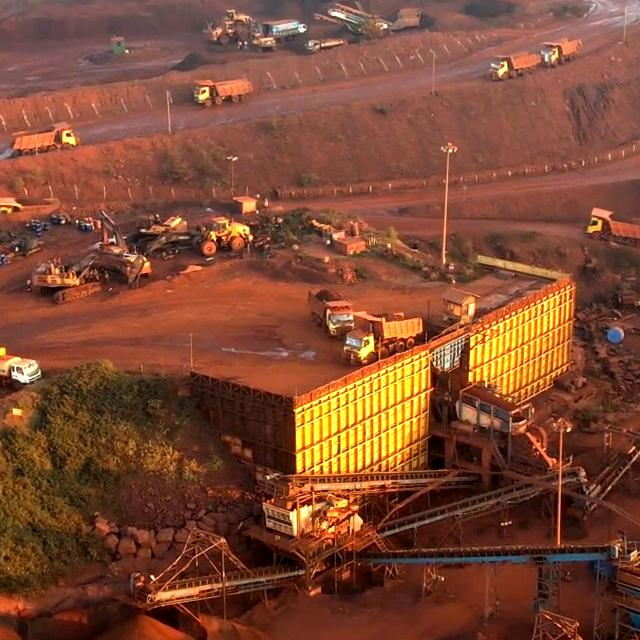Dumper truck: (347, 322, 422, 358), (313, 288, 355, 333), (589, 208, 640, 242), (12, 128, 76, 154), (195, 78, 250, 106), (489, 53, 544, 80), (542, 37, 583, 66)
Excavator: (36, 260, 104, 304)
